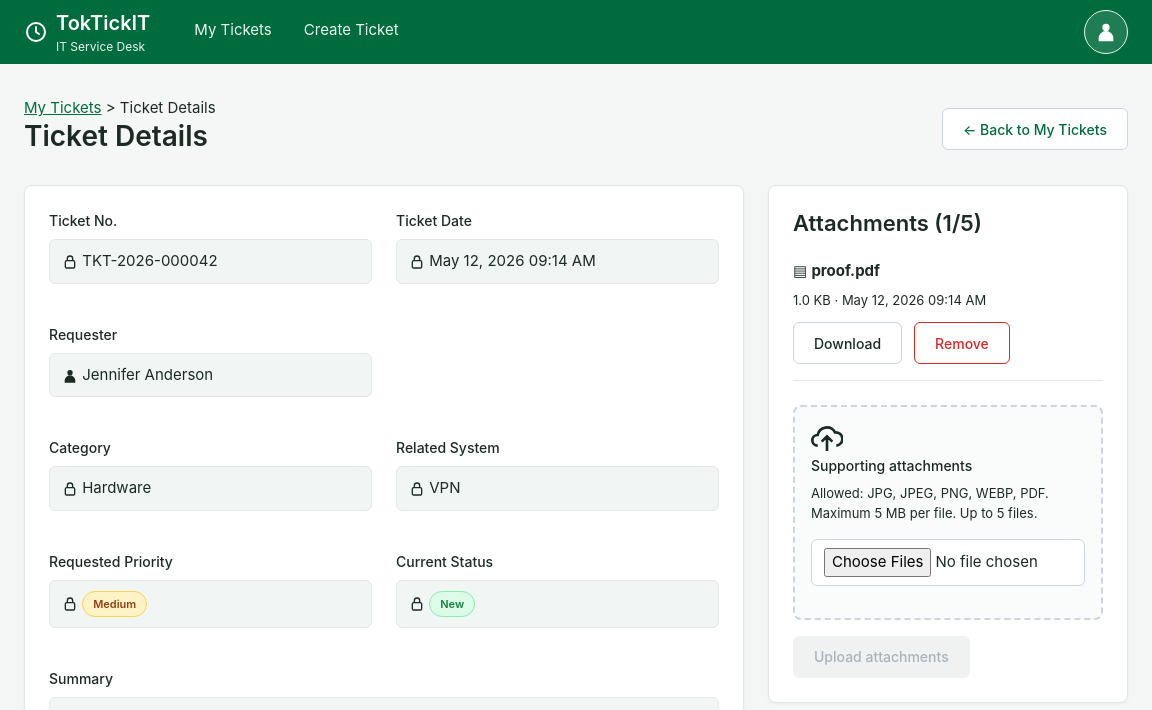
Scenario: removal error preserves the reason and permits retry
The image size is (1152, 710).
Click the button with aria-label "Remove proof.pdf" at (962, 344), box [914, 322, 1010, 364]
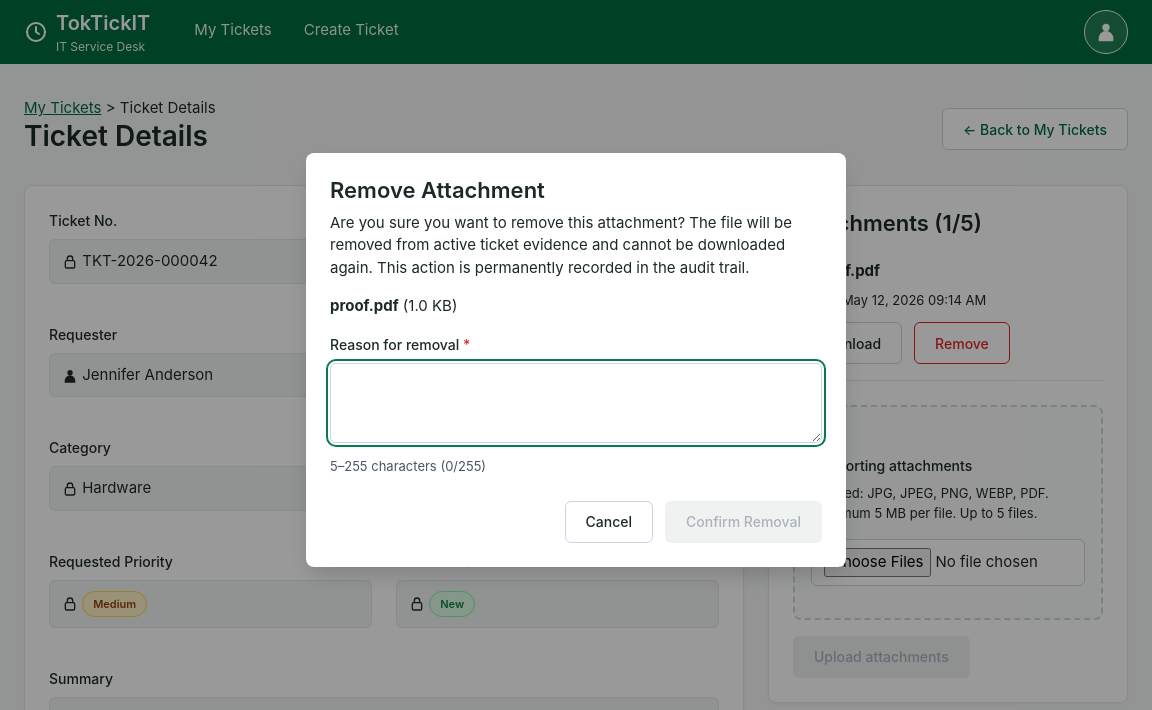
Type "Wrong document" into the text box labelled "Reason for removal *" at (576, 403), box [330, 363, 822, 443]
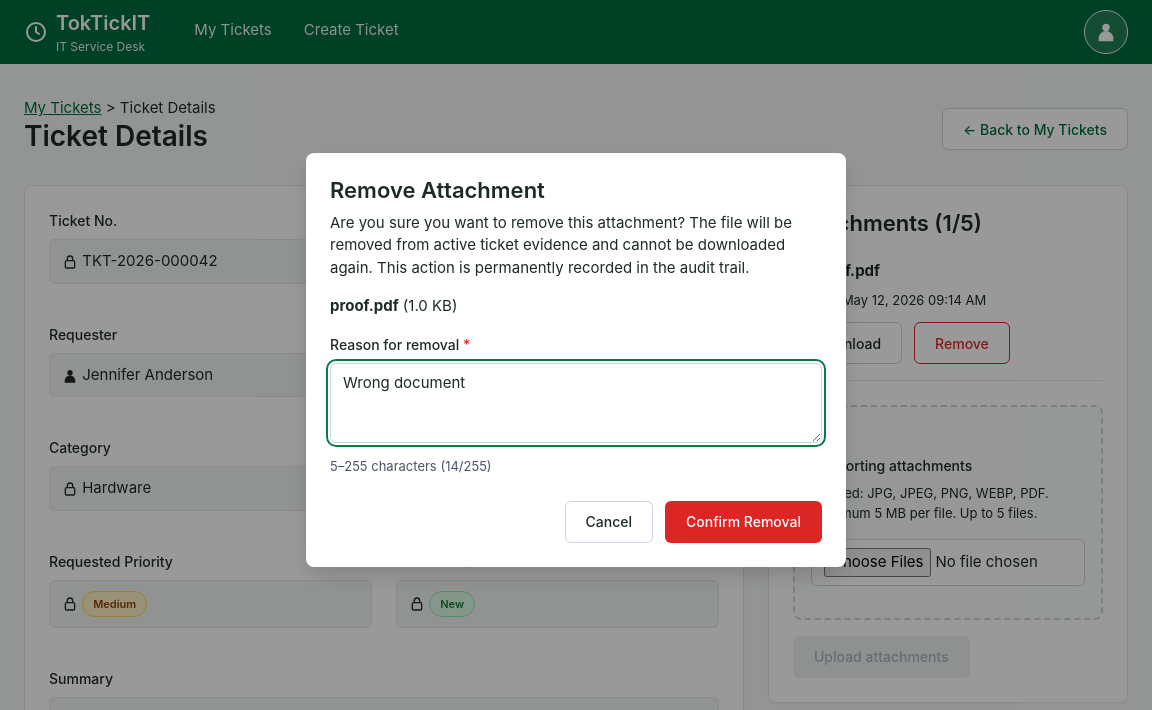
Click the button "Confirm Removal" at (744, 522), box [665, 501, 822, 543]
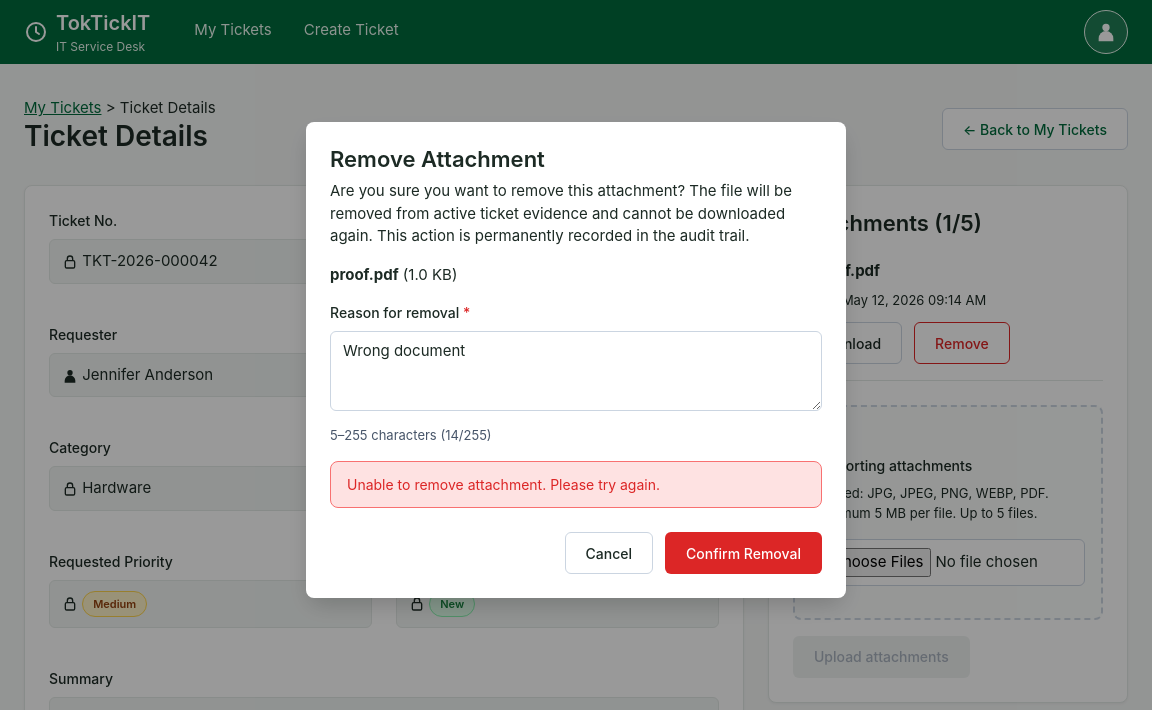
expect the text "Unable to remove attachment. Please try again." is shown: met, box [330, 461, 822, 508]
Click the button "Confirm Removal" at (744, 553), box [665, 532, 822, 574]
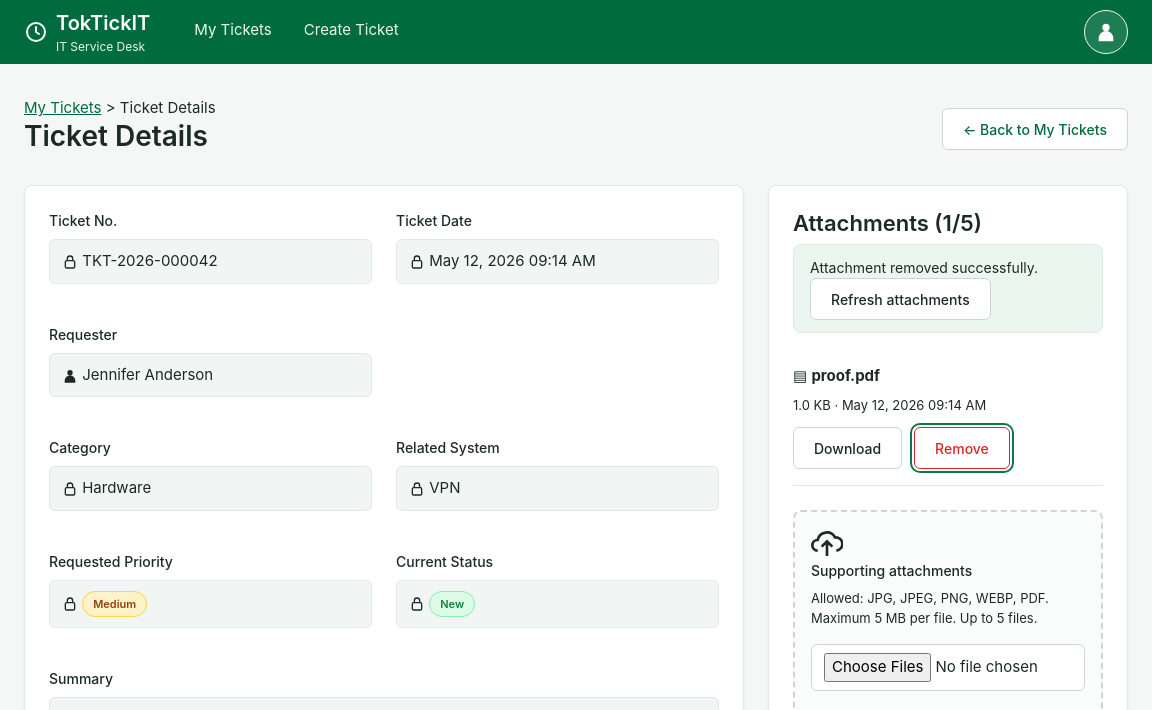
expect the text "Attachment removed successfully. Refresh attachments" is shown: met, box [793, 244, 1103, 334]
